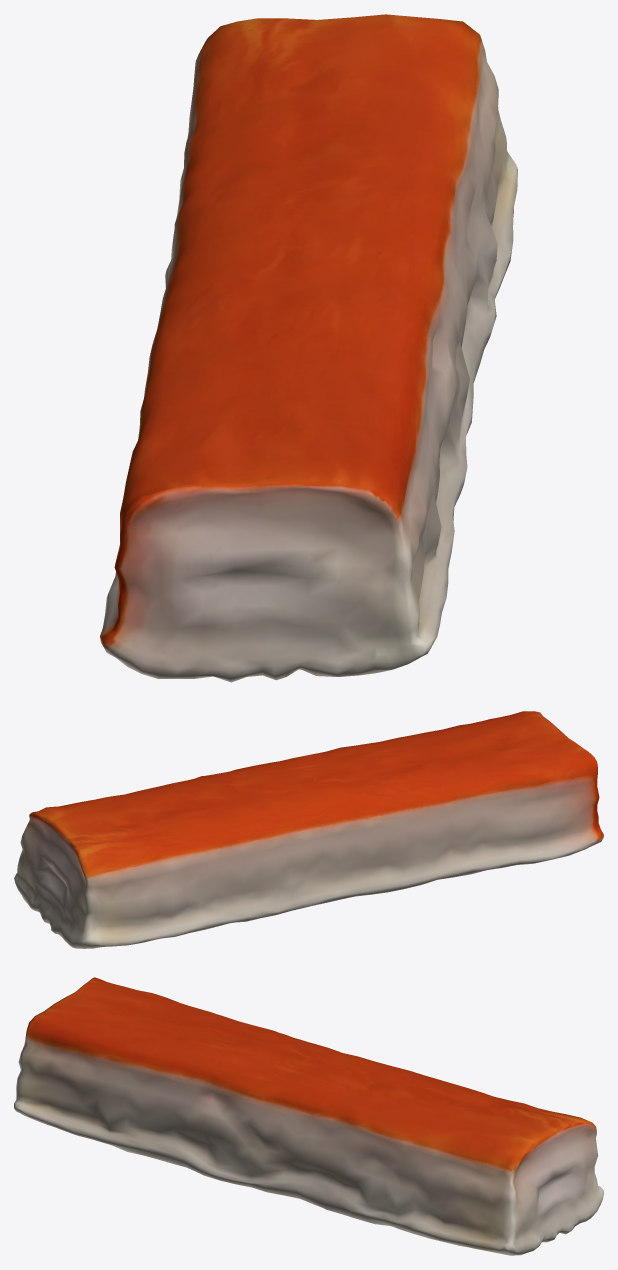
3 renders of one model, top to bottom at view 1: azimuth 30°, elevation 25°; view 2: azimuth 150°, elevation 25°; view 3: azimuth 270°, elevation 25°, orthographic. The views are drawn at different scales.
Visible parts, largest first — view 1: Crab Stick; view 2: Crab Stick; view 3: Crab Stick.
Part boxes in pixels (x1,y1,x2,y2): Crab Stick: (100,14,517,682); Crab Stick: (14,711,603,948); Crab Stick: (14,977,603,1255).
Size of the model in its own units: 0.8184 by 0.2012 by 0.998.
1 material, 1 textured.
